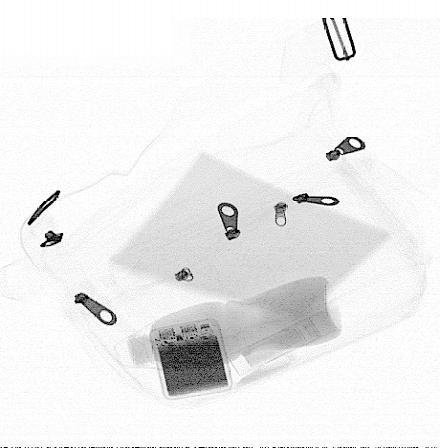Powerbank: (149, 317, 234, 402)
